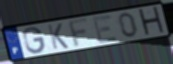0: (118, 11, 141, 39)
E: (91, 13, 120, 45)
F: (67, 16, 91, 50)
G: (22, 26, 47, 55)
H: (137, 5, 168, 38)
K: (46, 22, 70, 51)
